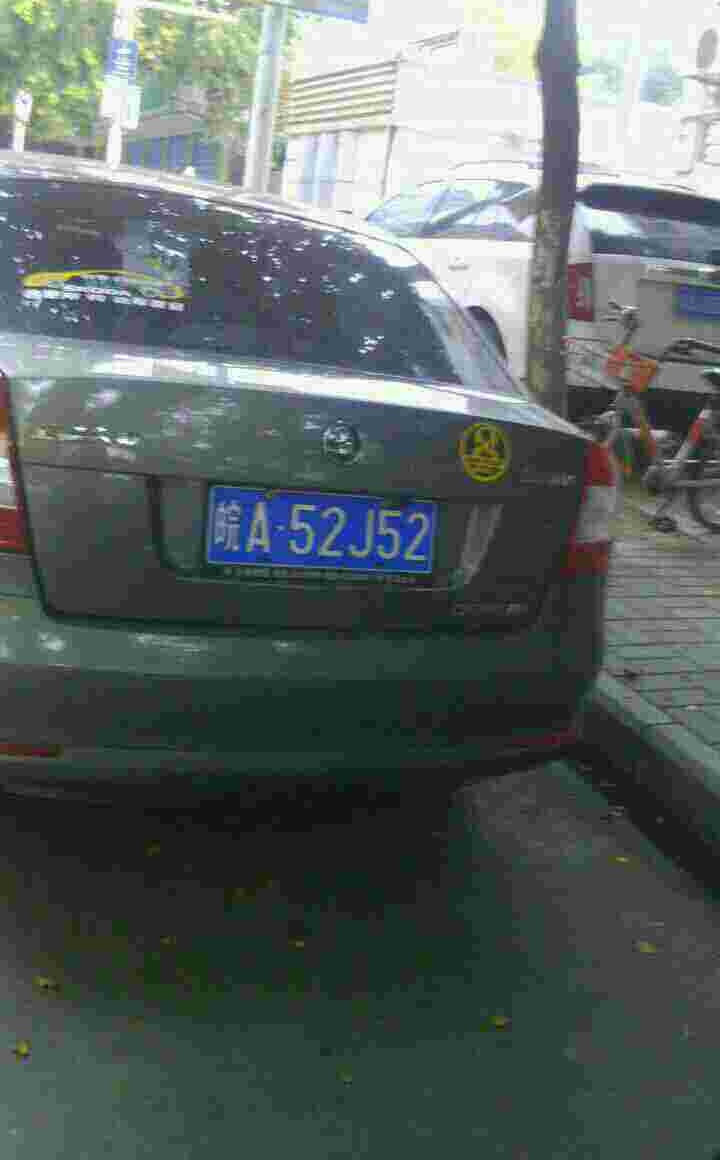license_plate: (196, 485, 446, 582)
